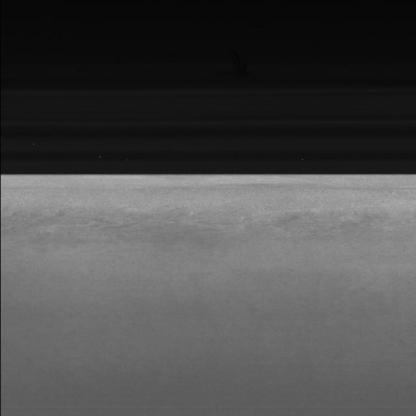silk_spot: (34, 203, 374, 259)
